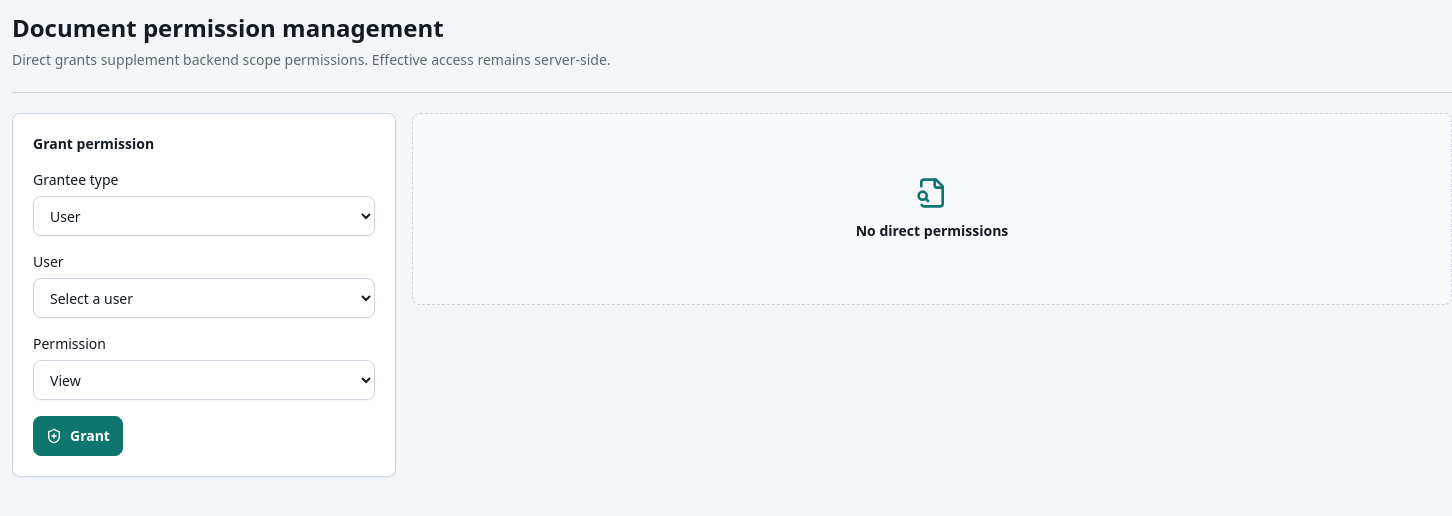
Scenario: DocumentPermissionsPage › blocks grant submission when no grantee is selected
What coordinates should you click on to do the following:
click the button "Grant"
I would click on:
 (78, 436)
Its box is [33,416,123,456].
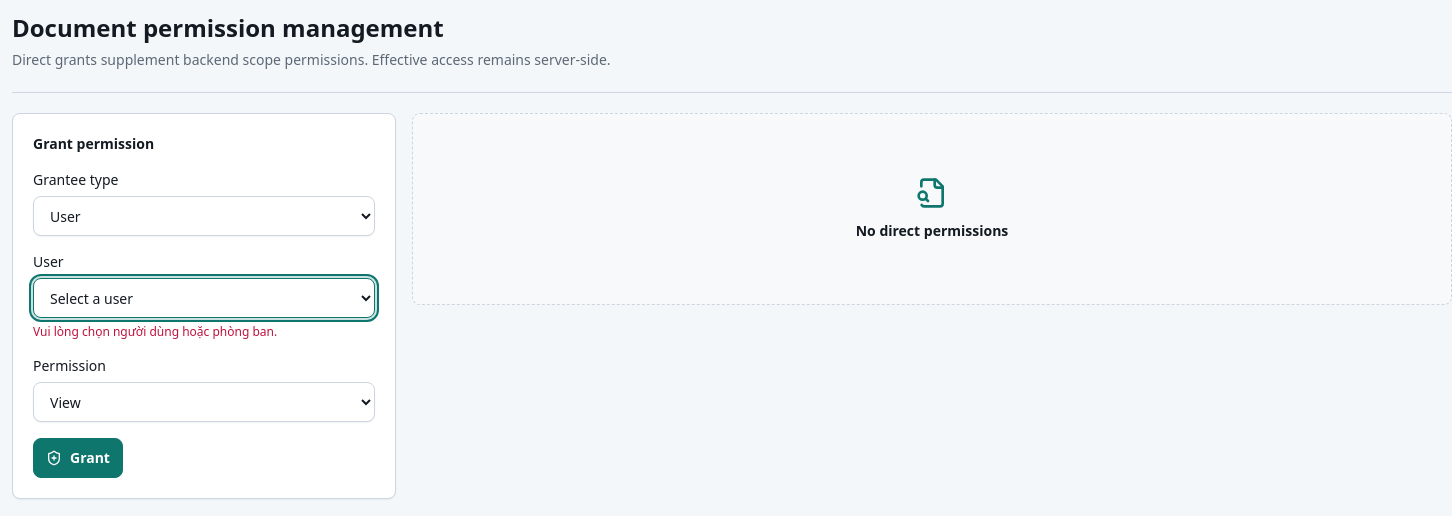
Check: the text "Vui lòng chọn người dùng hoặc phòng ban." is shown, box [33,323,277,340]
